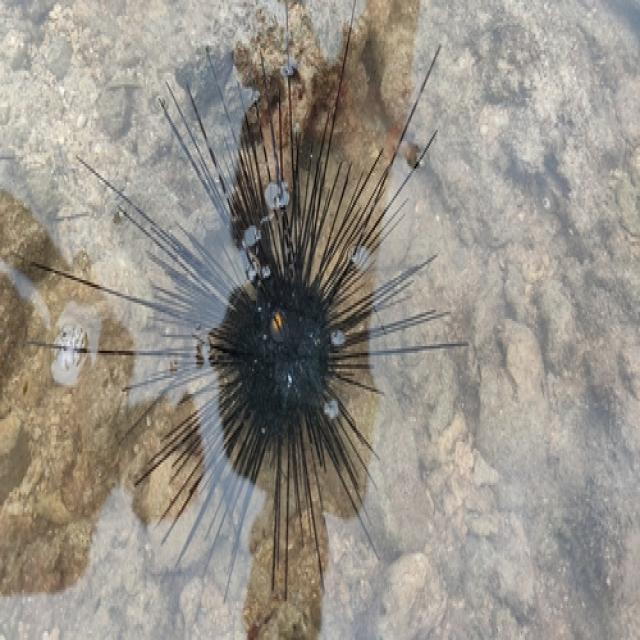Urchin: (34, 4, 468, 604)
